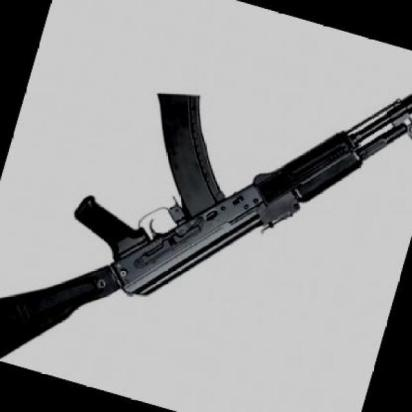Gun: (0, 94, 412, 357)
